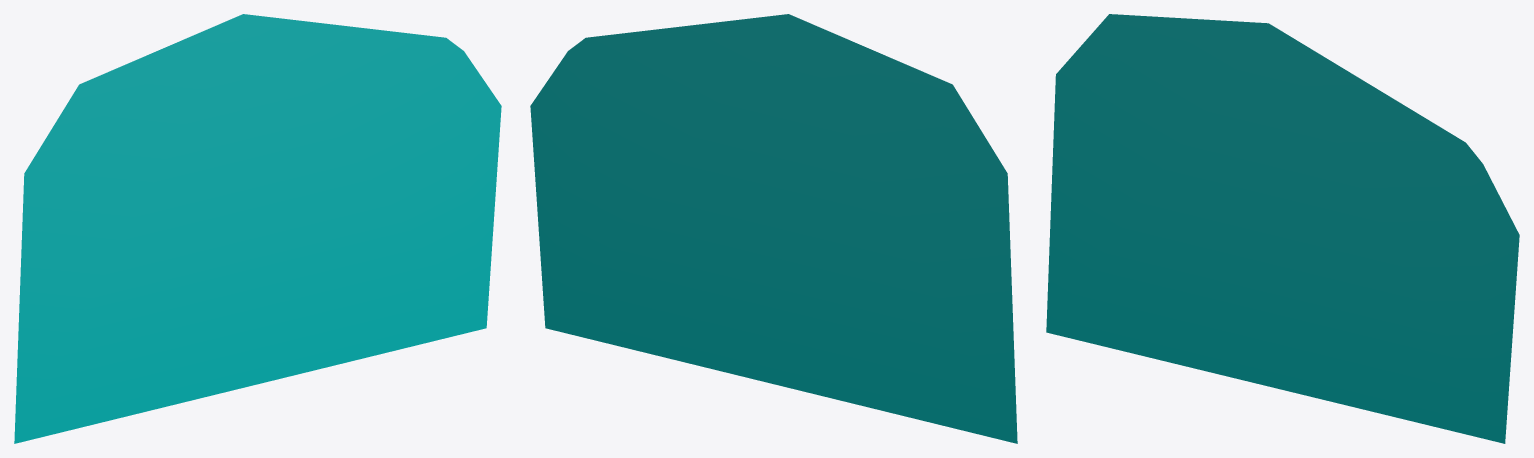
The model's file is Bigleaf_Hydrangea_vgztealha_Mid_vgztealha_VarG_LOD3.fbx.
The picture shows the model from 3 angles, left to right: view 1: azimuth 30°, elevation 25°; view 2: azimuth 150°, elevation 25°; view 3: azimuth 330°, elevation 25°; orthographic projection. The views are drawn at different scales.
Visible parts, largest first — view 1: _ese5_VarG_LOD5; view 2: _ese5_VarG_LOD5; view 3: _ese5_VarG_LOD5.
Part boxes in pixels (x1,y1,x2,y2): _ese5_VarG_LOD5: (14,14,501,443); _ese5_VarG_LOD5: (530,14,1017,443); _ese5_VarG_LOD5: (1046,14,1519,443).
Size of the model in its own units: 41.95 by 30.78 by 0.
